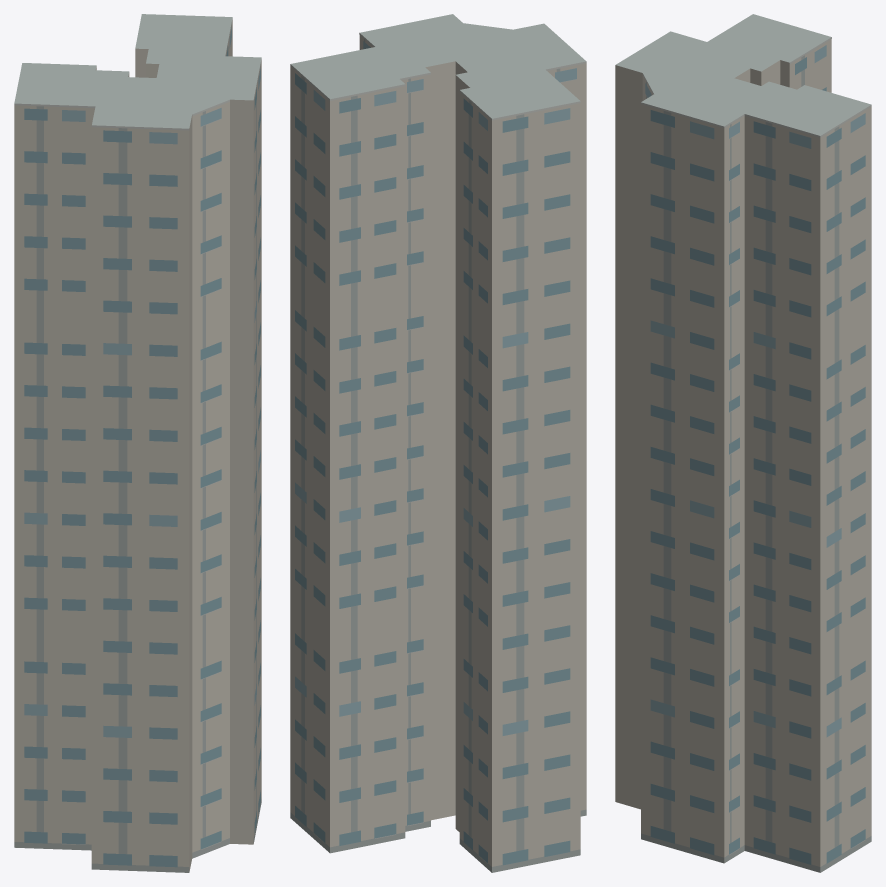
Rendered from residential-025a7bbd-1c33-4f47-90fd-1f874b5ba0d8.glb.
3 renders of one model, left to right at view 1: azimuth 30°, elevation 25°; view 2: azimuth 150°, elevation 25°; view 3: azimuth 270°, elevation 25°, orthographic. The views are drawn at different scales.
Parts seen in each view (by area): view 1: residential-025a7bbd-1c33-4f47-90fd-1f874b5ba0d8.tmp; view 2: residential-025a7bbd-1c33-4f47-90fd-1f874b5ba0d8.tmp; view 3: residential-025a7bbd-1c33-4f47-90fd-1f874b5ba0d8.tmp.
Part boxes in pixels (x1,y1,x2,y2): residential-025a7bbd-1c33-4f47-90fd-1f874b5ba0d8.tmp: [14, 14, 261, 872]; residential-025a7bbd-1c33-4f47-90fd-1f874b5ba0d8.tmp: [290, 14, 586, 872]; residential-025a7bbd-1c33-4f47-90fd-1f874b5ba0d8.tmp: [615, 14, 871, 872].
Size of the model in its own units: 35.86 by 101 by 31.86.
